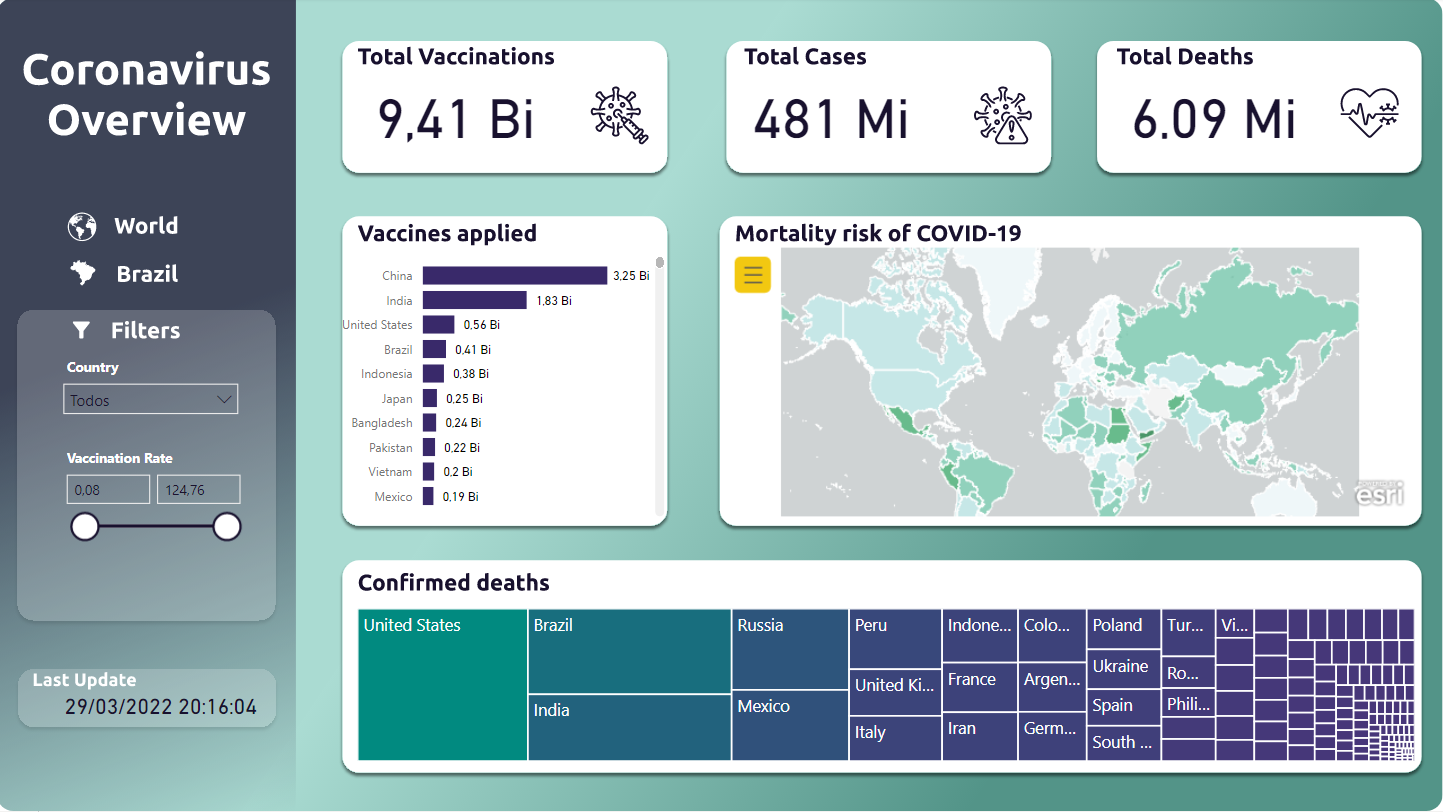

The page's visual inventory and layout, read from the dashboard file:
{"tool":"powerbi","page":{"name":"Worldwide","canvas":[1280,720],"ordinal":0},"visuals":[{"type":"card","fields":{"Values":["Sum(covid basics.total_vaccinations)"]},"box":[314.4,69.1,183.3,63.8],"z":0},{"type":"card","fields":{"Values":["Sum(covid basics.total_cases)"]},"box":[640.3,71.7,196.6,57.6],"z":1000},{"type":"card","fields":{"Values":["Sum(covid basics.total_deaths)"]},"box":[982.1,71.7,191.3,57.6],"z":2000},{"type":"barChart","fields":{"Category":["covid vaccination-country.location"],"Y":["Sum(covid vaccination-country.max_total_vaccinations)"]},"box":[286.9,216.1,309.1,248],"z":3000},{"type":"treemap","fields":{"Group":["covid death-rate-country.location"],"Values":["Sum(covid death-rate-country.total_deaths)"]},"box":[314.4,535.8,945.8,145.2],"z":4000},{"type":"slicer","fields":{"Values":["covid vaccinations.location"]},"box":[48.7,313.5,175.4,66.4],"z":5000},{"type":"slicer","fields":{"Values":["covid vaccinations.vaccination_rate"]},"box":[48.7,394.1,175.4,98.3],"z":6000},{"type":"card","fields":{"Values":["Min(Date Refresh.Datetime)"]},"box":[42.5,600.4,204.6,54],"z":7000},{"type":"esriVisual","fields":{"Location":["countries_codes_and_coordinates.Country"],"Color":["Sum(covid death-percentage-country.death_percentage)"],"Latitude":["countries_codes_and_coordinates.Latitude (average)"],"Longitude":["countries_codes_and_coordinates.Longitude (average)"]},"box":[640.3,216.1,619.9,248],"z":8000},{"type":"actionButton","box":[54.9,225.8,125.8,35.4],"z":9000}]}

Visuals, with their boxes in screenshot pixels (x1, y1, x2, y2), scaled from the page's 1280x720 canvas onto the 1443x812 screenshot:
card - Sum(covid basics.total_vaccinations): {"x1": 354, "y1": 78, "x2": 561, "y2": 150}
card - Sum(covid basics.total_cases): {"x1": 722, "y1": 81, "x2": 943, "y2": 146}
card - Sum(covid basics.total_deaths): {"x1": 1107, "y1": 81, "x2": 1323, "y2": 146}
barChart - covid vaccination-country.location x Sum(covid vaccination-country.max_total_vaccinations): {"x1": 323, "y1": 244, "x2": 672, "y2": 523}
treemap - covid death-rate-country.location x Sum(covid death-rate-country.total_deaths): {"x1": 354, "y1": 604, "x2": 1421, "y2": 768}
slicer - covid vaccinations.location: {"x1": 55, "y1": 354, "x2": 253, "y2": 428}
slicer - covid vaccinations.vaccination_rate: {"x1": 55, "y1": 444, "x2": 253, "y2": 555}
card - Min(Date Refresh.Datetime): {"x1": 48, "y1": 677, "x2": 279, "y2": 738}
esriVisual - countries_codes_and_coordinates.Country x Sum(covid death-percentage-country.death_percentage): {"x1": 722, "y1": 244, "x2": 1421, "y2": 523}
actionButton: {"x1": 62, "y1": 255, "x2": 204, "y2": 295}
